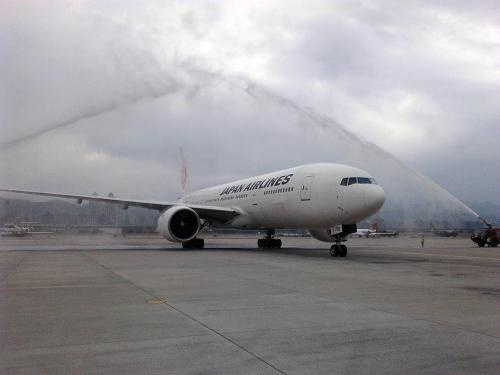airplane: (51, 157, 395, 252)
